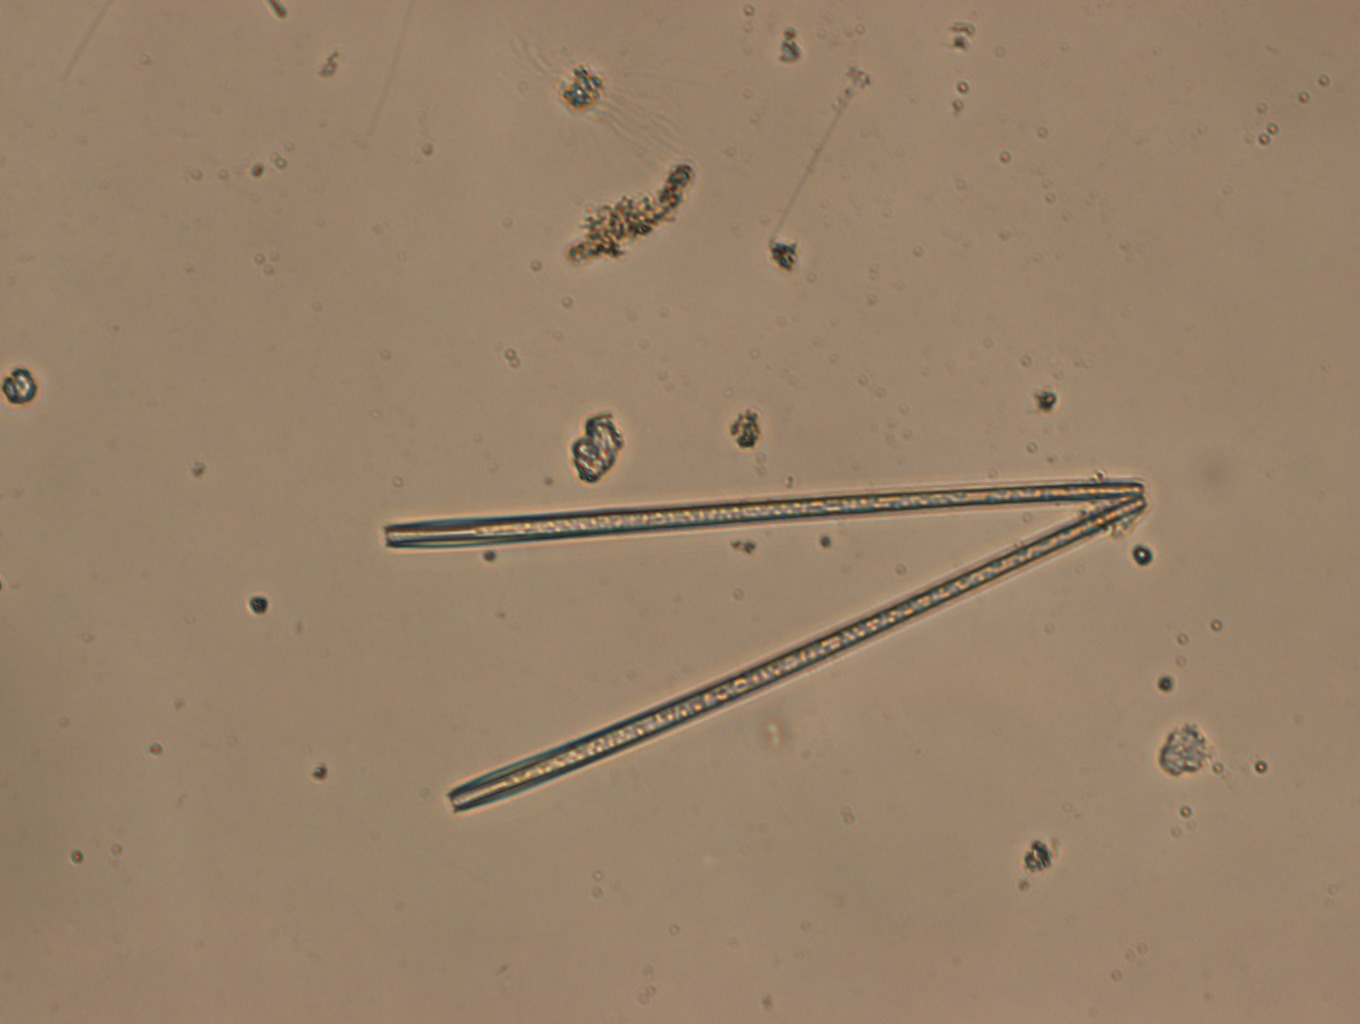thalassionema frauenfeldii: (363, 466, 1150, 823)
